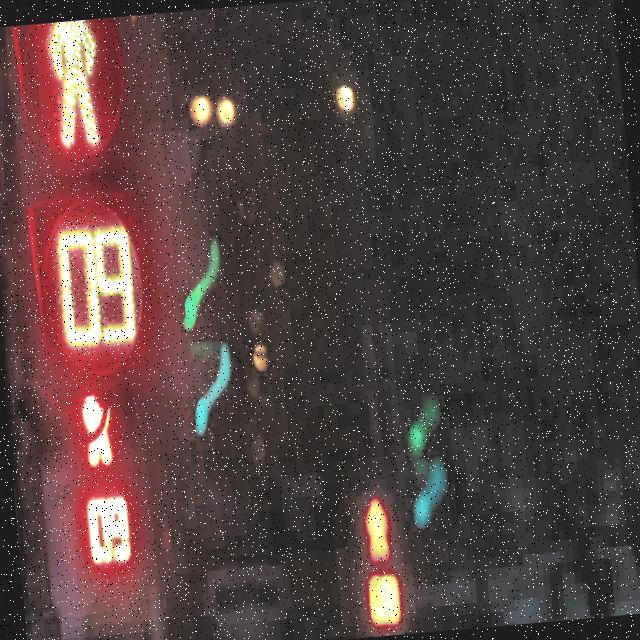red_light: (44, 19, 106, 152)
